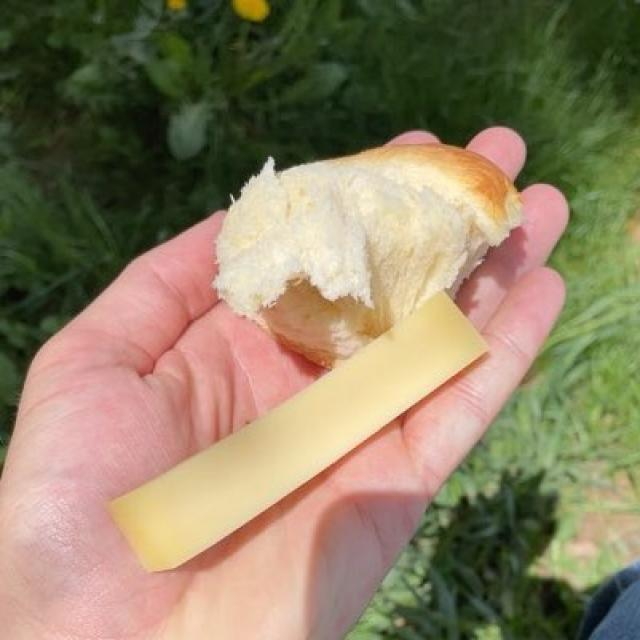bread: (206, 138, 514, 355)
cheese: (113, 297, 492, 576)
